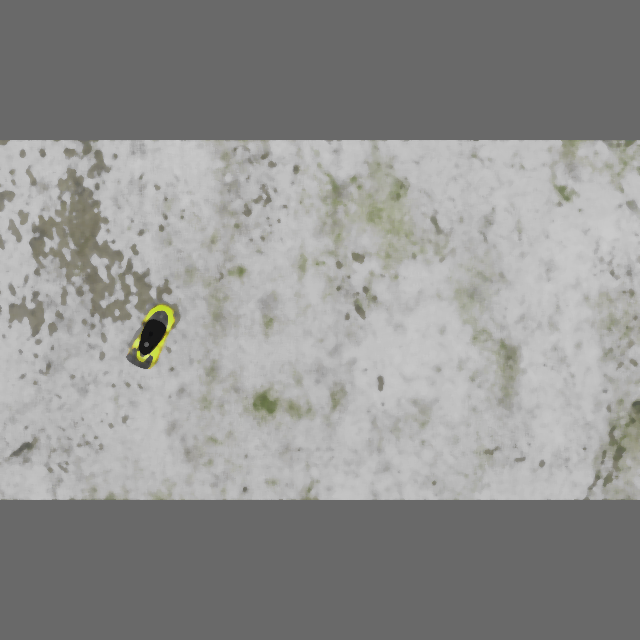car: (121, 299, 181, 373)
